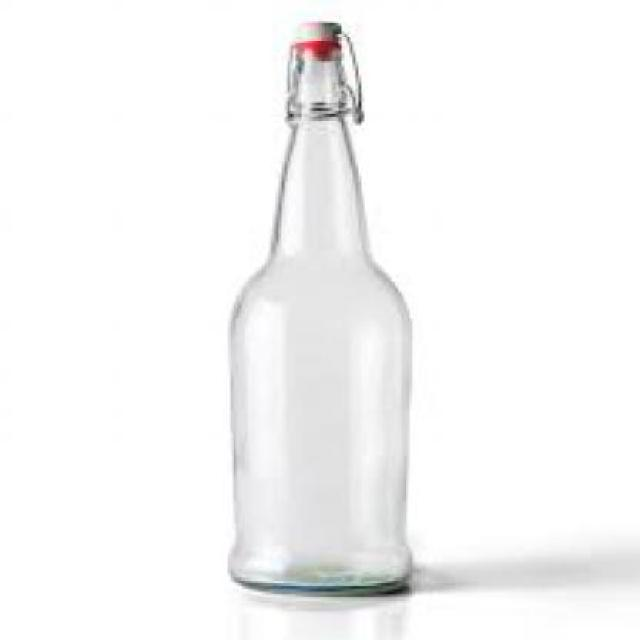GLASS: (226, 62, 414, 594)
PLASTIC: (289, 23, 340, 58)
